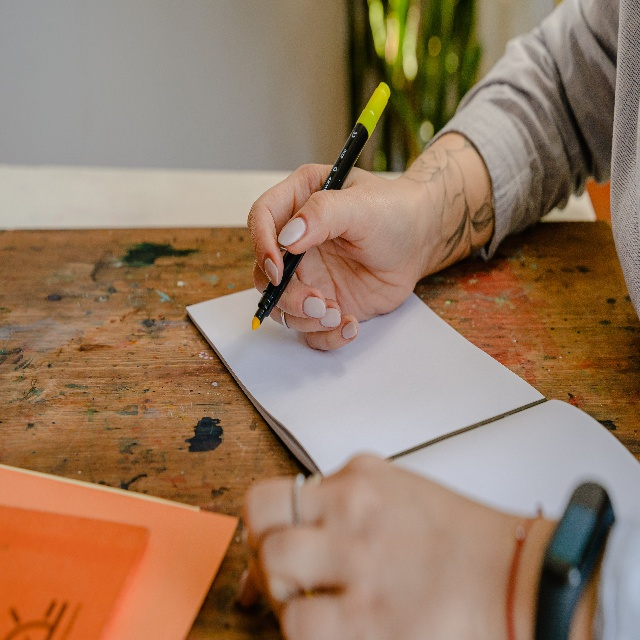Sin_guantes: (242, 445, 535, 640), (246, 162, 418, 352)
